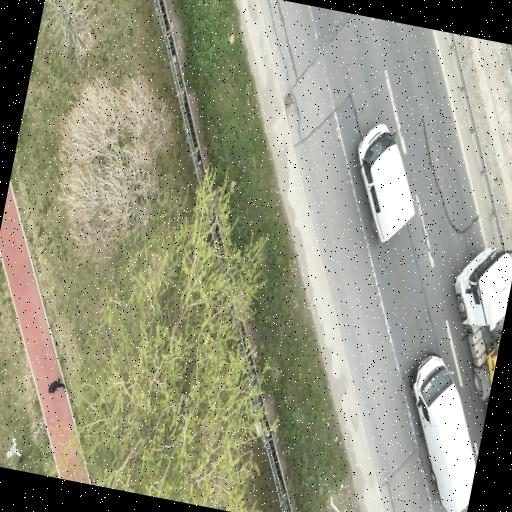car: (411, 354, 475, 511), (356, 124, 413, 242)
person: (48, 376, 66, 394)
truck: (454, 248, 511, 400)
